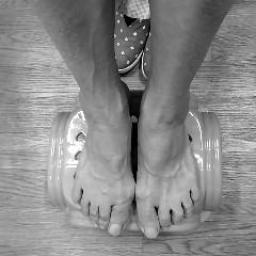Dorsal View -Both Feet-: (42, 62, 218, 248)
